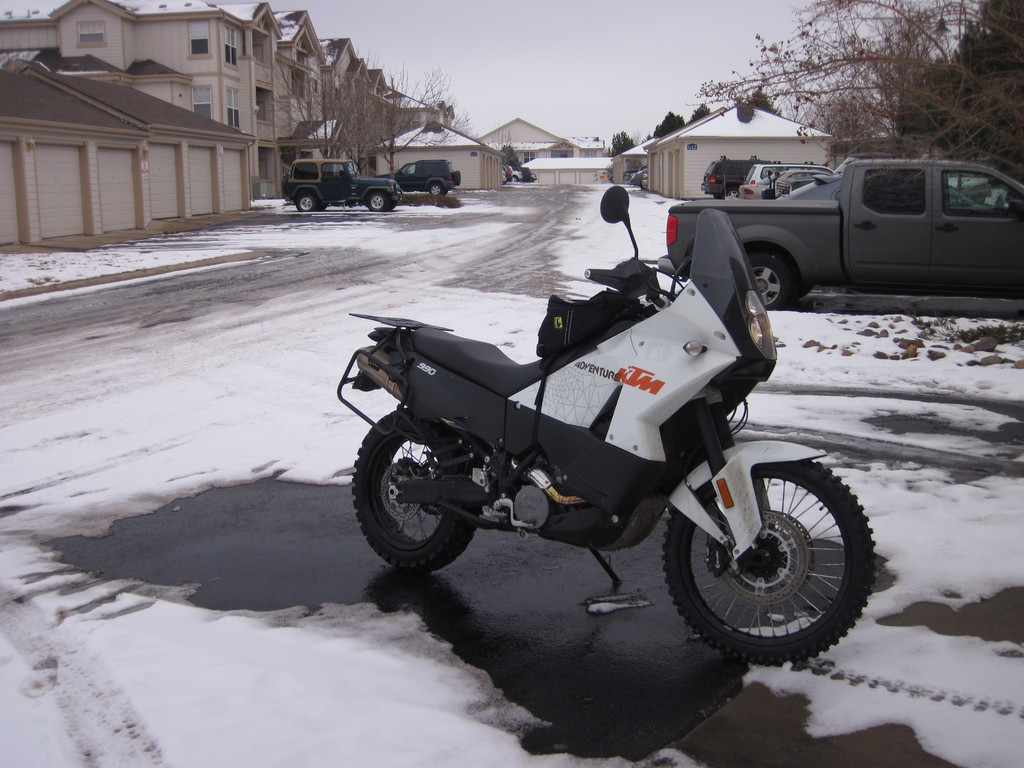Wheel: (662, 451, 876, 666), (353, 404, 483, 574), (743, 248, 789, 309), (297, 193, 317, 213), (369, 190, 386, 212), (429, 182, 440, 197)
